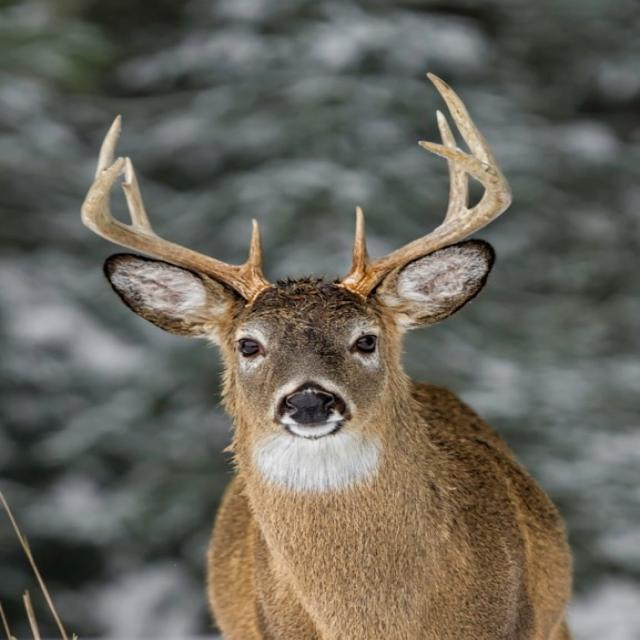L-F: (344, 140, 512, 295)
L-G1: (351, 205, 369, 270)
R-F: (79, 155, 269, 301)
R-G1: (246, 217, 263, 269)
R-G2: (122, 157, 155, 234)
